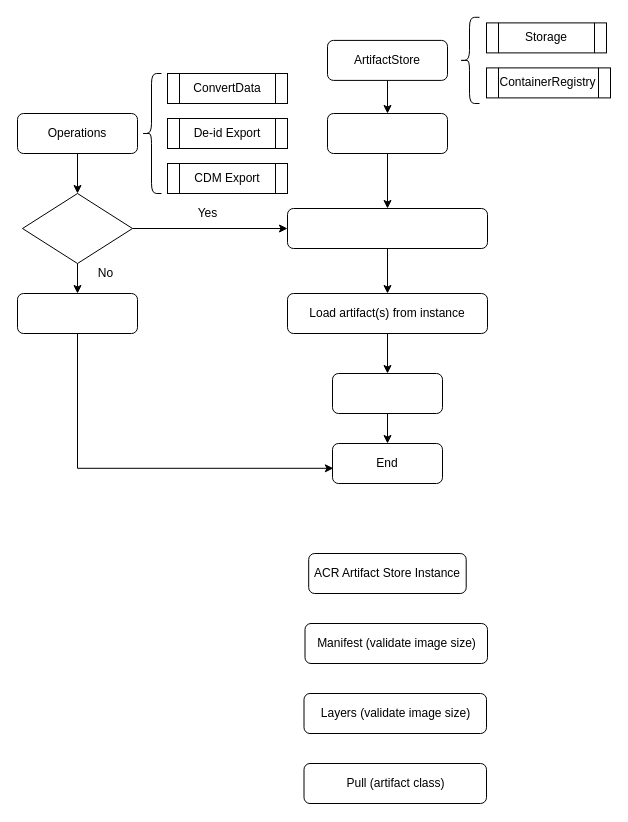
Some shapes in this 628 by 822 pixel diagram are drawn without their labels. The shapes that lost their labels are listed below. From the top down, each one's box as (x1, y1, x2, y2) in pixels, then its label:
(326, 112, 448, 154): ArtifactProvider
(22, 192, 132, 264): Artifact(s) exist
(286, 208, 488, 248): Connect to artifact store instance
(16, 292, 138, 334): Default behavior
(332, 372, 442, 414): Excution
